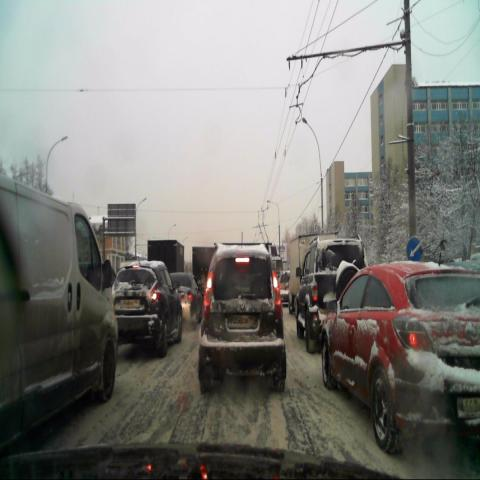4_2_2: (405, 233, 423, 266)
